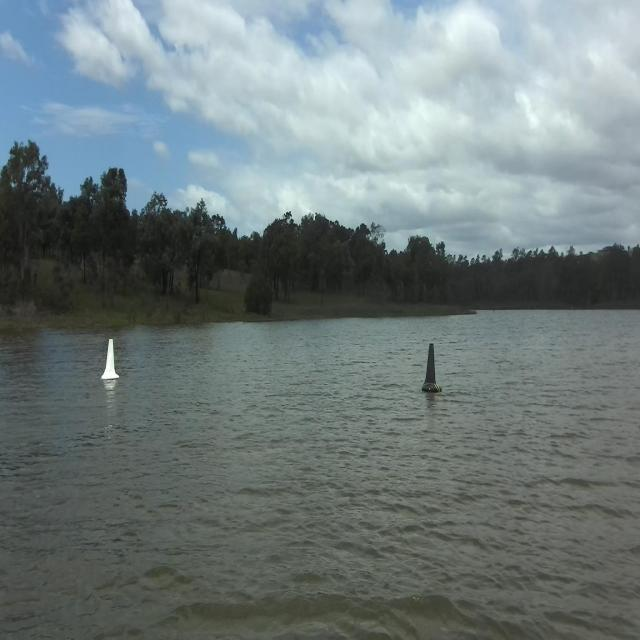Black_Buoy: (410, 336, 454, 395)
White_Buoy: (89, 332, 132, 389)
